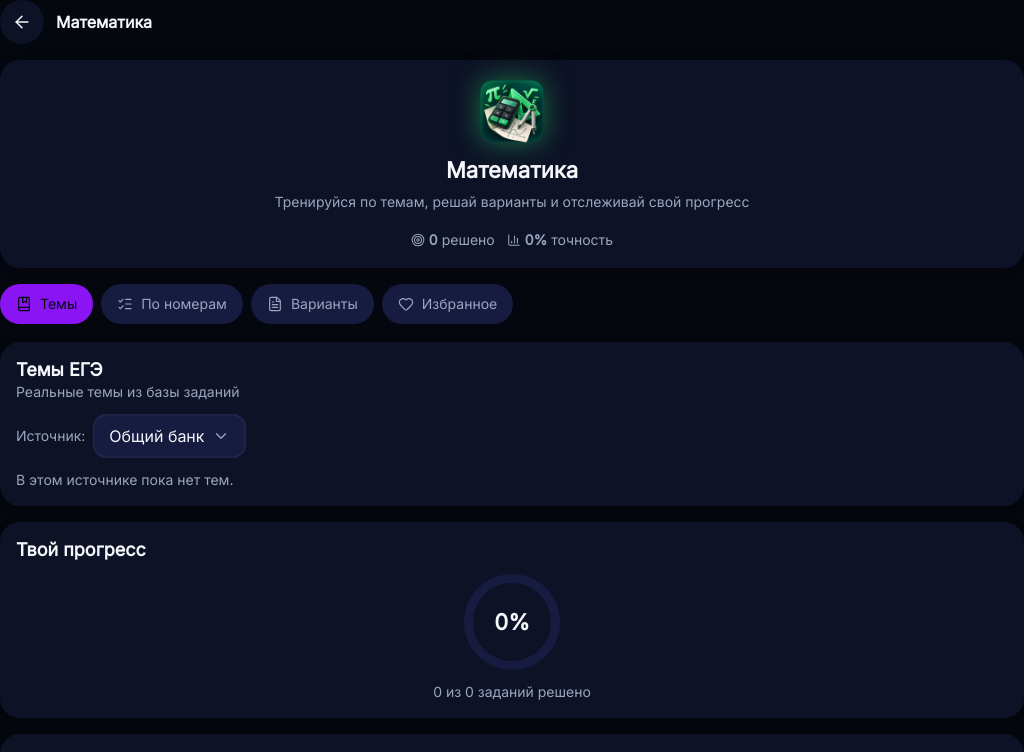
Scenario: SubjectMobile › switches to Варианты and shows the real collections in the source picker + number chips
Click the button "Варианты".
click(312, 304)  # box top-left (251, 284), bottom-right (374, 324)
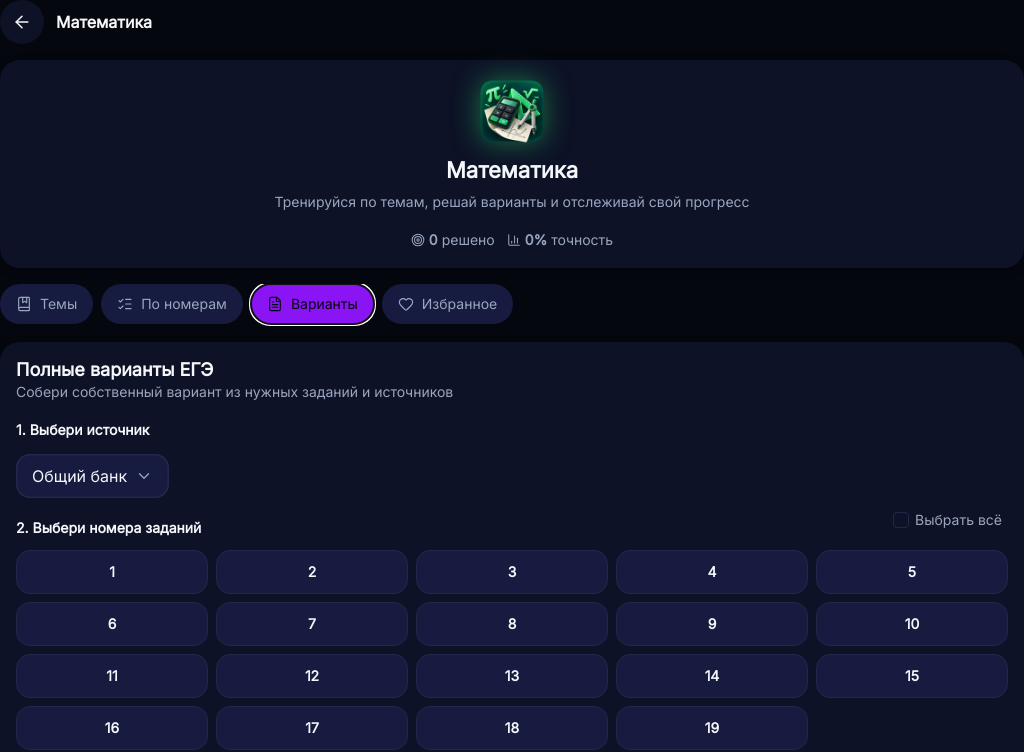
Expected: the text "Общий банк" is shown, top-left (32, 464), bottom-right (127, 488)
Now the button "Выбрать всё" is shown, box top-left (887, 498), bottom-right (1008, 542)
Click the button "Общий банк".
click(93, 476)  # box top-left (16, 454), bottom-right (169, 498)
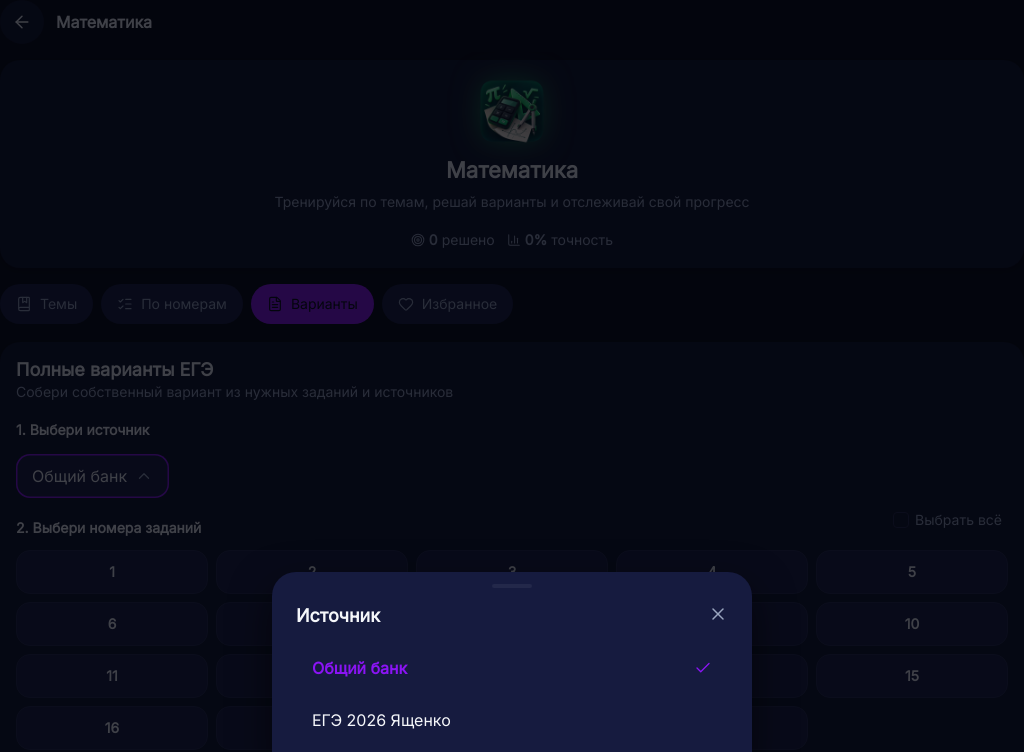
Now the option "ЕГЭ 2026 Ященко" is shown, box top-left (296, 696), bottom-right (728, 744)
